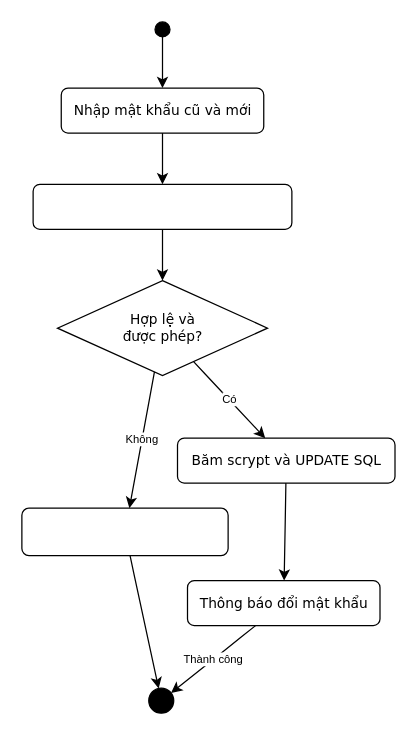
Some shapes in this 418 by 735 pixel diagram are drawn without their labels. The shapes that lost their labels are listed below. From the top down, each one's box as (x1, y1, x2, y2) in pixels, then its label:
(32, 183, 292, 229): Xác thực và kiểm tra mật khẩu cũ
(21, 507, 228, 556): Thông báo lỗi Không báo lưu thành công
